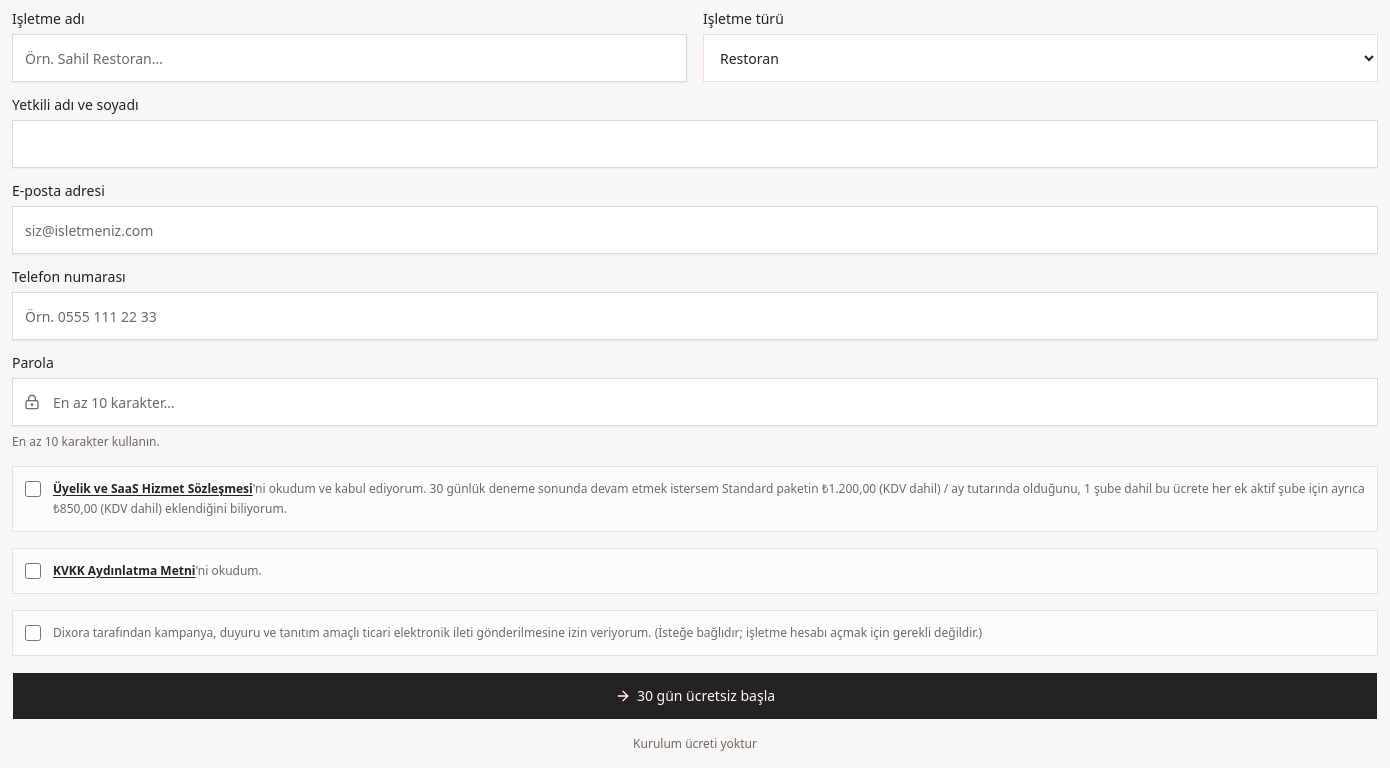
Scenario: TrialRegistrationForm › keeps the KVKK acknowledgement separate from the membership agreement
Type "Sahil Restoran" into the field labelled "İşletme adı". click: (350, 58)
box: [12,34,687,82]
Type "Deniz Yılmaz" into the field labelled "Yetkili adı ve soyadı". click: (695, 144)
box: [12,120,1378,168]
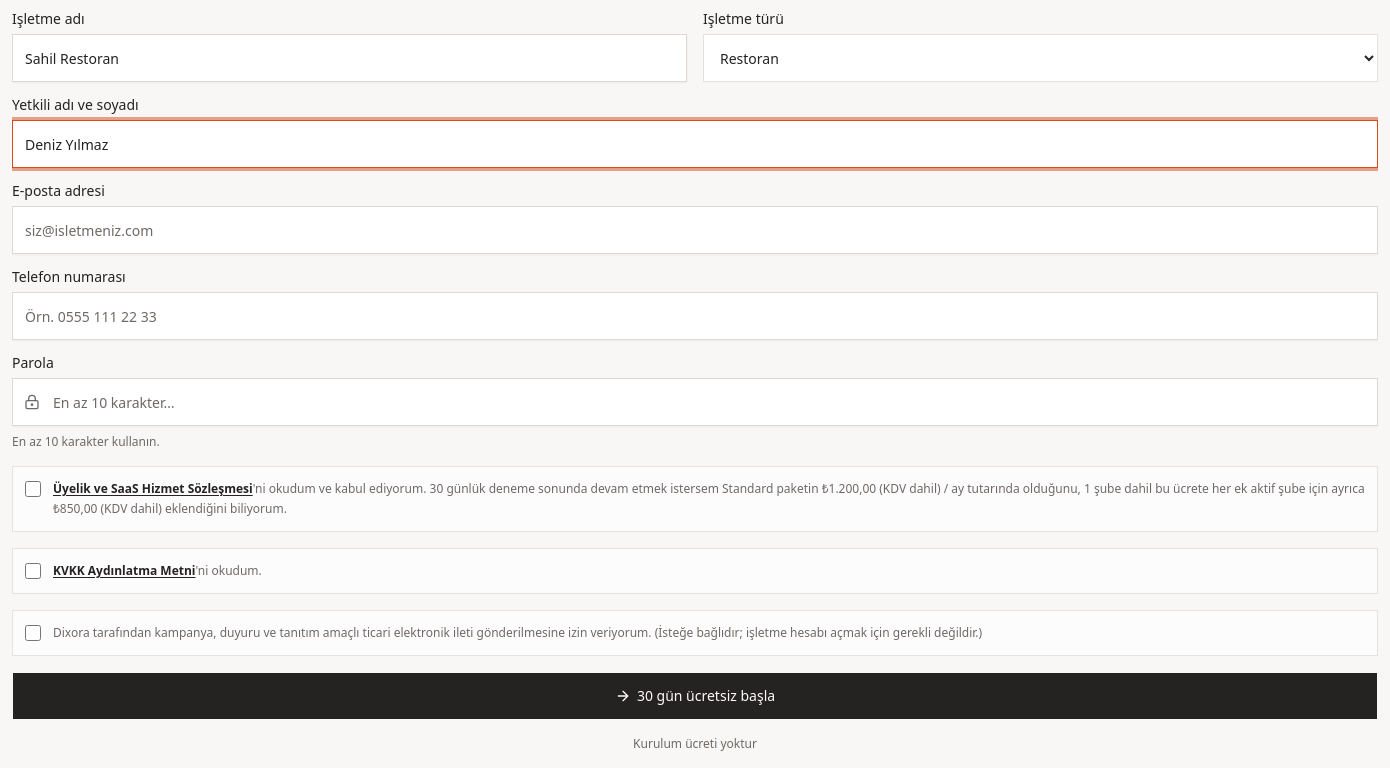
Type "sahibi@example.com" into the field labelled "E-posta adresi". click: (695, 230)
box: [12,206,1378,254]
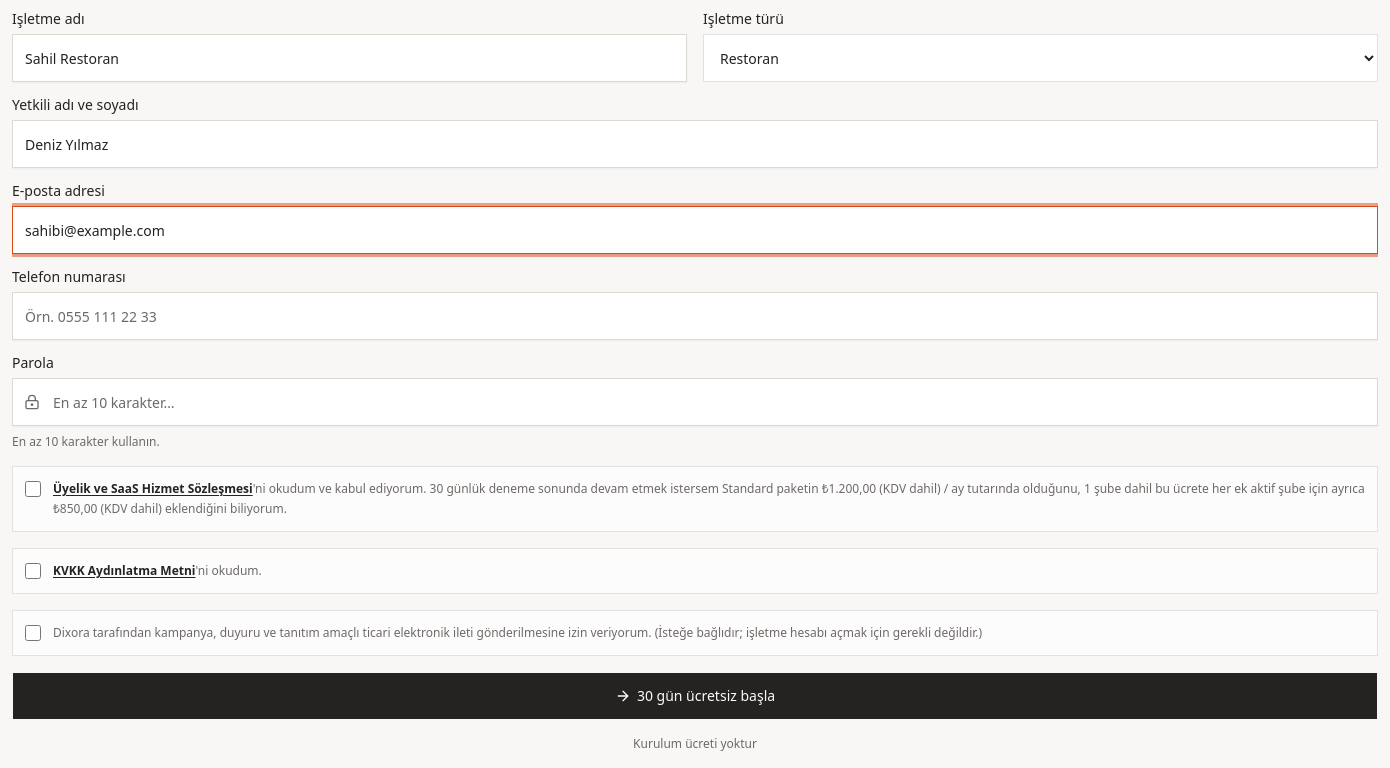
Type "0555 111 22 33" into the field labelled "Telefon numarası". click: (695, 316)
box: [12,292,1378,340]
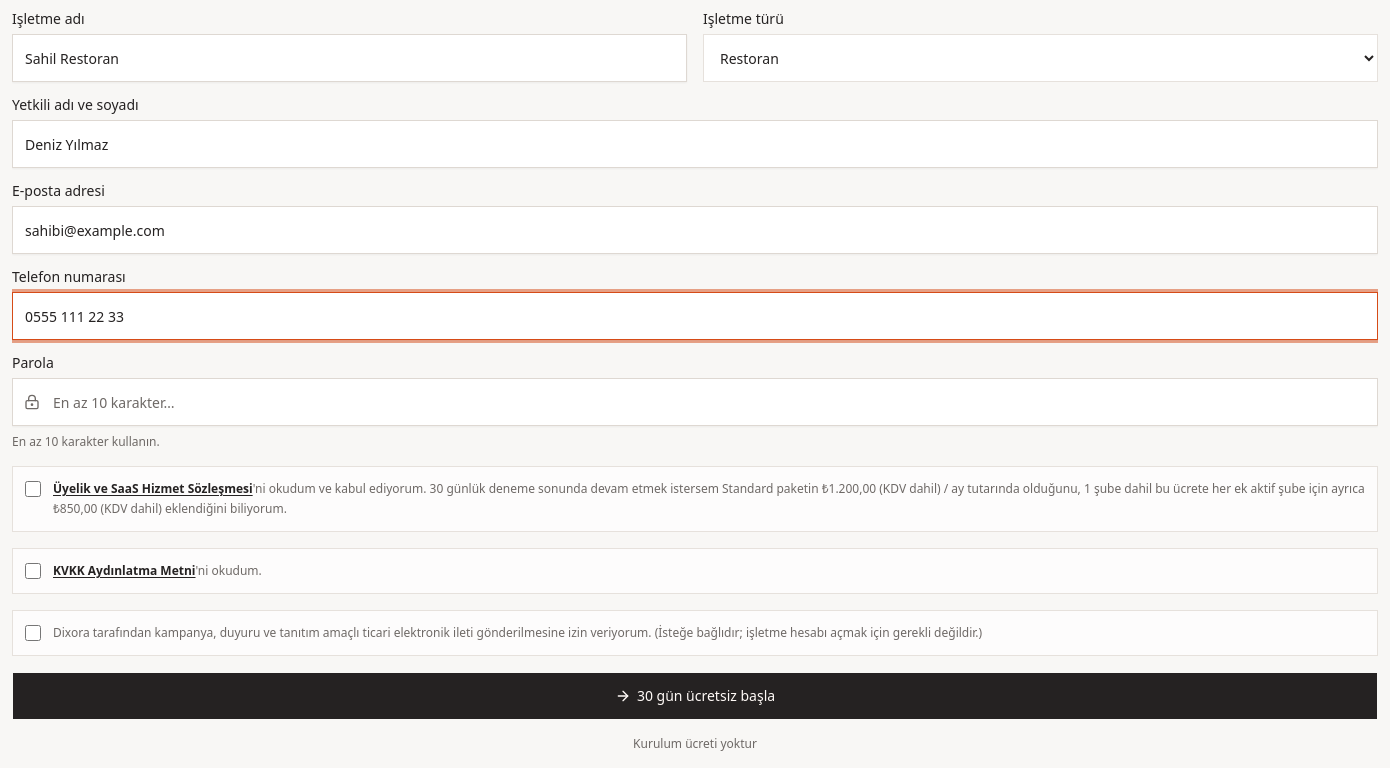
Type "Guvenli!2026" into the password field labelled "Parola". click: (695, 402)
box: [12,378,1378,426]
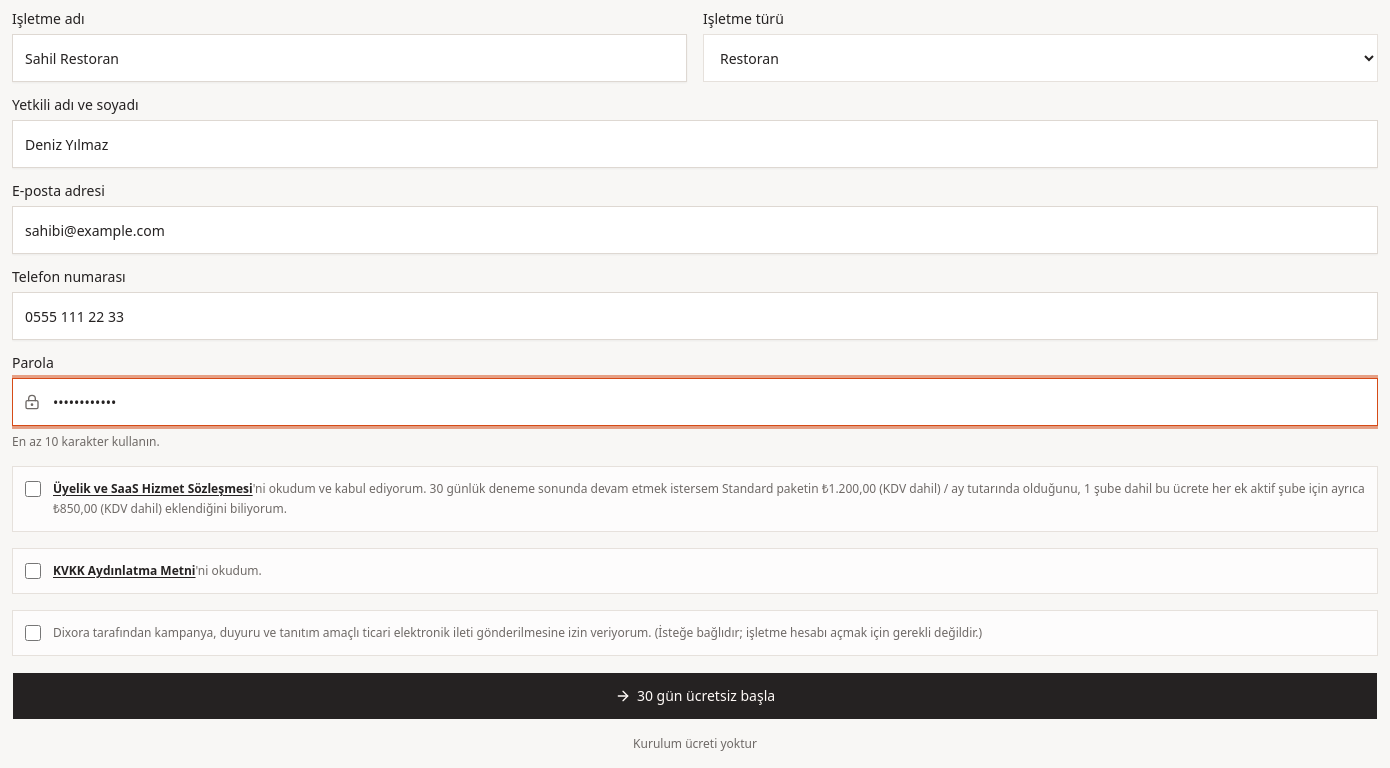
Click the 1st checkbox. click: (33, 489)
box: [25,481,41,497]
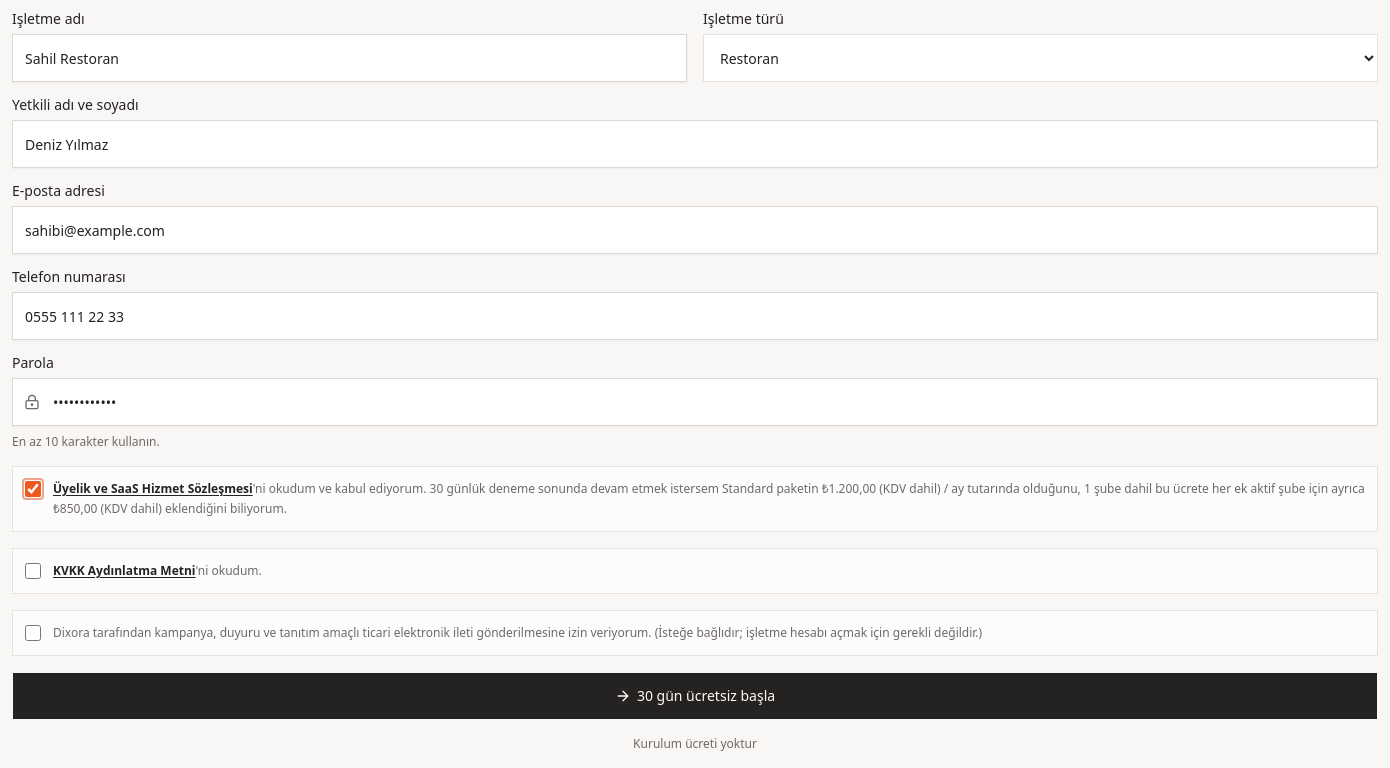
Click the button "30 gün ücretsiz başla". click: (695, 696)
box: [12,672,1378,720]
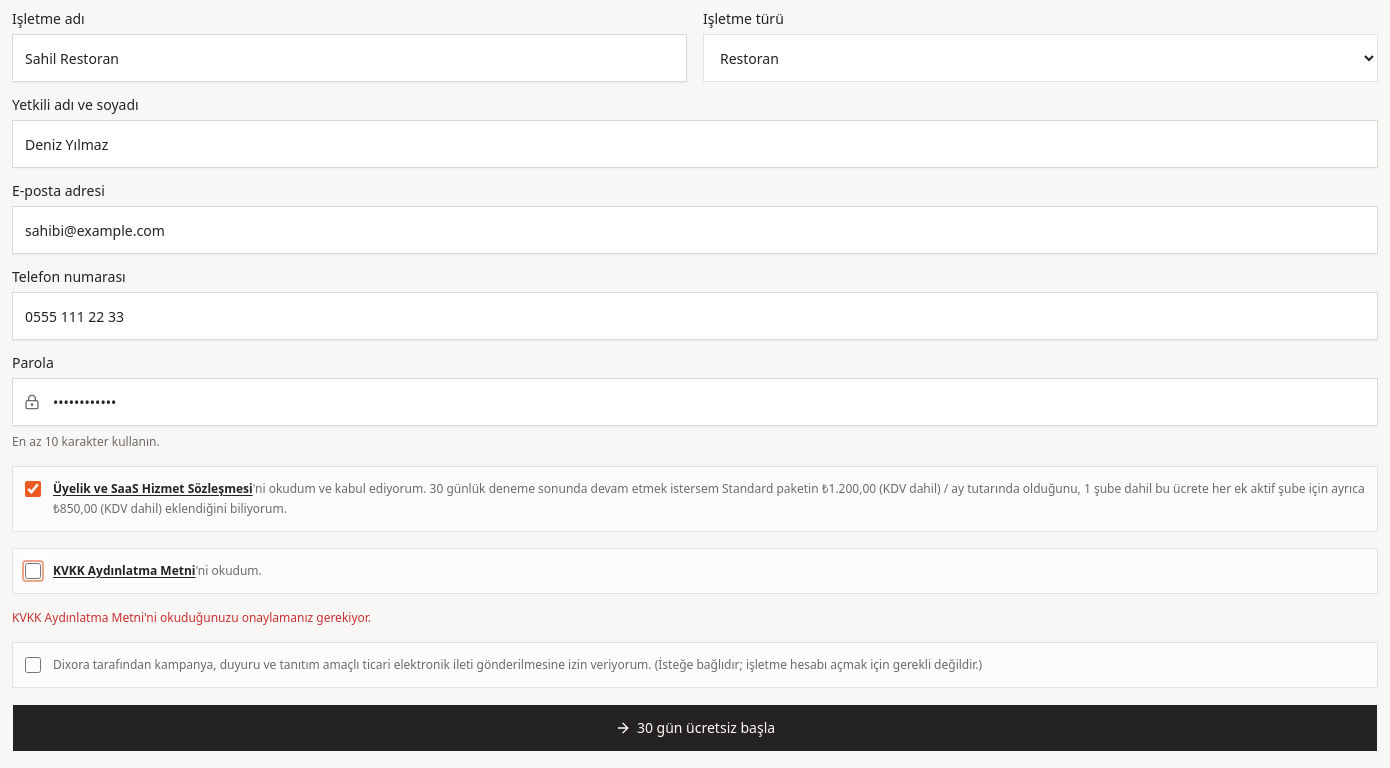
Check: the text "KVKK Aydınlatma Metni'ni okuduğunuzu onaylamanız gerekiyor." is shown, box [12,609,371,626]
